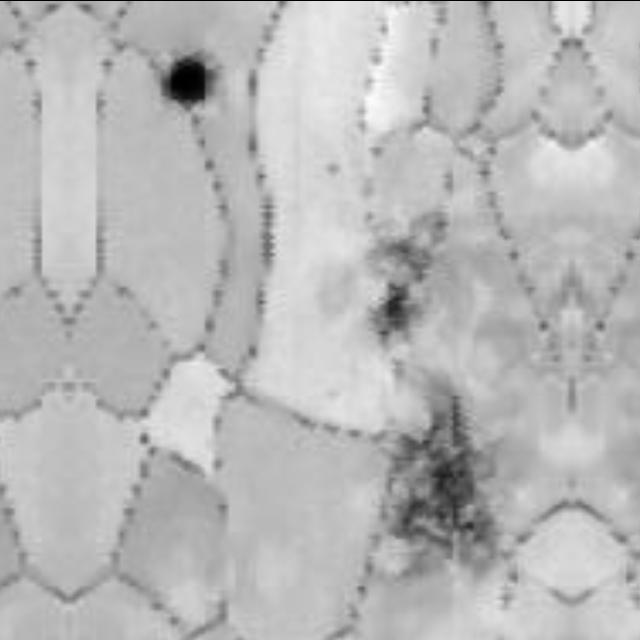good_void: (375, 400, 501, 566), (364, 278, 421, 344), (156, 52, 215, 109), (382, 237, 429, 285), (407, 202, 451, 248)
